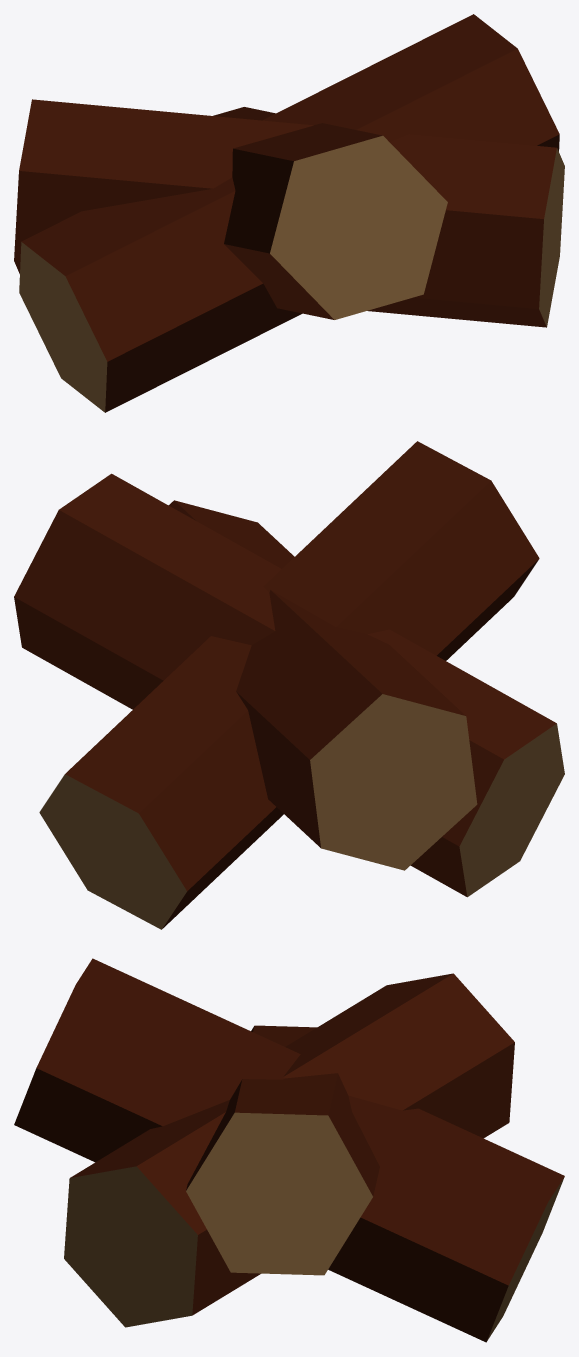
Rendered from small_fire.fbx.
3 renders of one model, top to bottom at view 1: azimuth 30°, elevation 25°; view 2: azimuth 150°, elevation 25°; view 3: azimuth 270°, elevation 25°, orthographic. The views are drawn at different scales.
Visible parts, largest first — view 1: Cylinder_1, Cylinder, Cylinder_2; view 2: Cylinder_2, Cylinder_1, Cylinder; view 3: Cylinder_2, Cylinder, Cylinder_1.
Boxes of the visible parts, left/top/right/bottom form: Cylinder_1: left=19, top=14, right=559, bottom=412; Cylinder: left=14, top=99, right=564, bottom=327; Cylinder_2: left=213, top=107, right=447, bottom=319; Cylinder_2: left=39, top=441, right=539, bottom=929; Cylinder_1: left=14, top=473, right=564, bottom=897; Cylinder: left=168, top=500, right=477, bottom=870; Cylinder_2: left=14, top=958, right=564, bottom=1342; Cylinder: left=64, top=973, right=514, bottom=1327; Cylinder_1: left=186, top=1025, right=379, bottom=1275.
Size of the model in its own units: 211 by 134 by 212.
